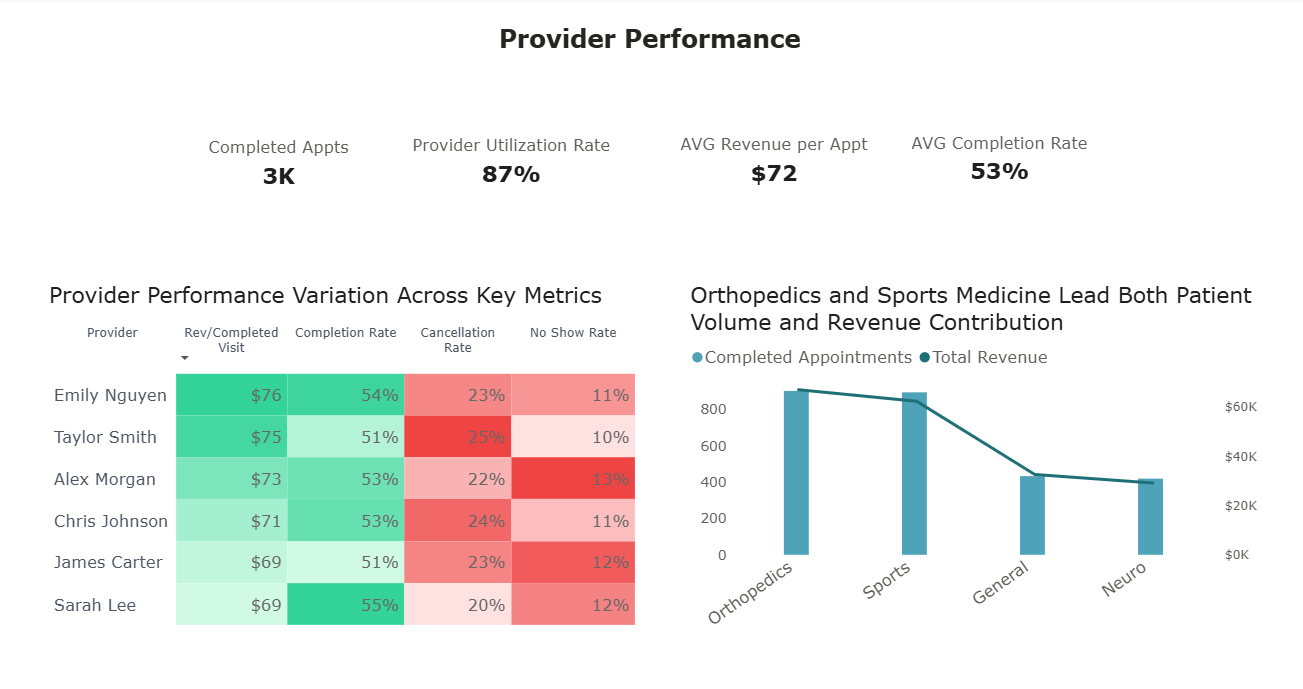

This screenshot's page, from the dashboard's own definition file:
{"tool":"powerbi","page":{"name":"providers","canvas":[1280,720],"ordinal":2},"visuals":[{"type":"group","id":"g1","title":"Group 1","box":[179,112,922,94.2],"z":0},{"type":"cardVisual","fields":{"Data":["claims.Avg Rev per Completed Visit"]},"box":[632.7,114.4,260.5,89.3],"z":0,"group":"g1"},{"type":"lineStackedColumnComboChart","title":"Orthopedics and Sports Medicine Lead Both Patient Volume and Revenue Contribution","fields":{"Category":["providers.Specialty Clean"],"Y":["appointments.Completed Appointments"],"Y2":["appointments.Total Revenue"]},"box":[670.5,268,577.8,366.7],"z":0,"group":"g2"},{"type":"cardVisual","fields":{"Data":["schedule.Utilization %"]},"box":[377.7,115.6,257.3,88],"z":1000,"group":"g1"},{"type":"group","id":"g2","title":"Group 2","box":[42.7,268,1205.3,366.7],"z":1000},{"type":"pivotTable","title":"Provider Performance Variation Across Key Metrics","fields":{"Values":["appointments.Revenue per Completed Visit","appointments.Completed %","appointments.Cancelled %","appointments.No Show Rate %"],"Rows":["providers.Provider Name Clean"]},"box":[42.7,268,627.8,366.7],"z":1000,"group":"g2"},{"type":"textbox","box":[320,16,640,64],"z":2000},{"type":"cardVisual","fields":{"Data":["appointments.Completed %"]},"box":[866.2,112,234.8,90.5],"z":2000,"group":"g1"},{"type":"cardVisual","fields":{"Data":["appointments.Completed Appointments"]},"box":[179,118.2,198.7,88],"z":3000,"group":"g1"}]}

Visuals, with their boxes on the page's 1280x720 design canvas (x1, y1, x2, y2). These are canvas units, not pixel positions in the 1303x689 screenshot, which may show the page scaled, cropped or inside an application window:
"Group 1" group: BBox(179, 112, 1101, 206)
cardVisual - claims.Avg Rev per Completed Visit: BBox(633, 114, 893, 204)
"Orthopedics and Sports Medicine Lead Both Patient Volume and Revenue Contribution" lineStackedColumnComboChart: BBox(670, 268, 1248, 635)
cardVisual - schedule.Utilization %: BBox(378, 116, 635, 204)
"Group 2" group: BBox(43, 268, 1248, 635)
"Provider Performance Variation Across Key Metrics" pivotTable: BBox(43, 268, 670, 635)
textbox: BBox(320, 16, 960, 80)
cardVisual - appointments.Completed %: BBox(866, 112, 1101, 202)
cardVisual - appointments.Completed Appointments: BBox(179, 118, 378, 206)
